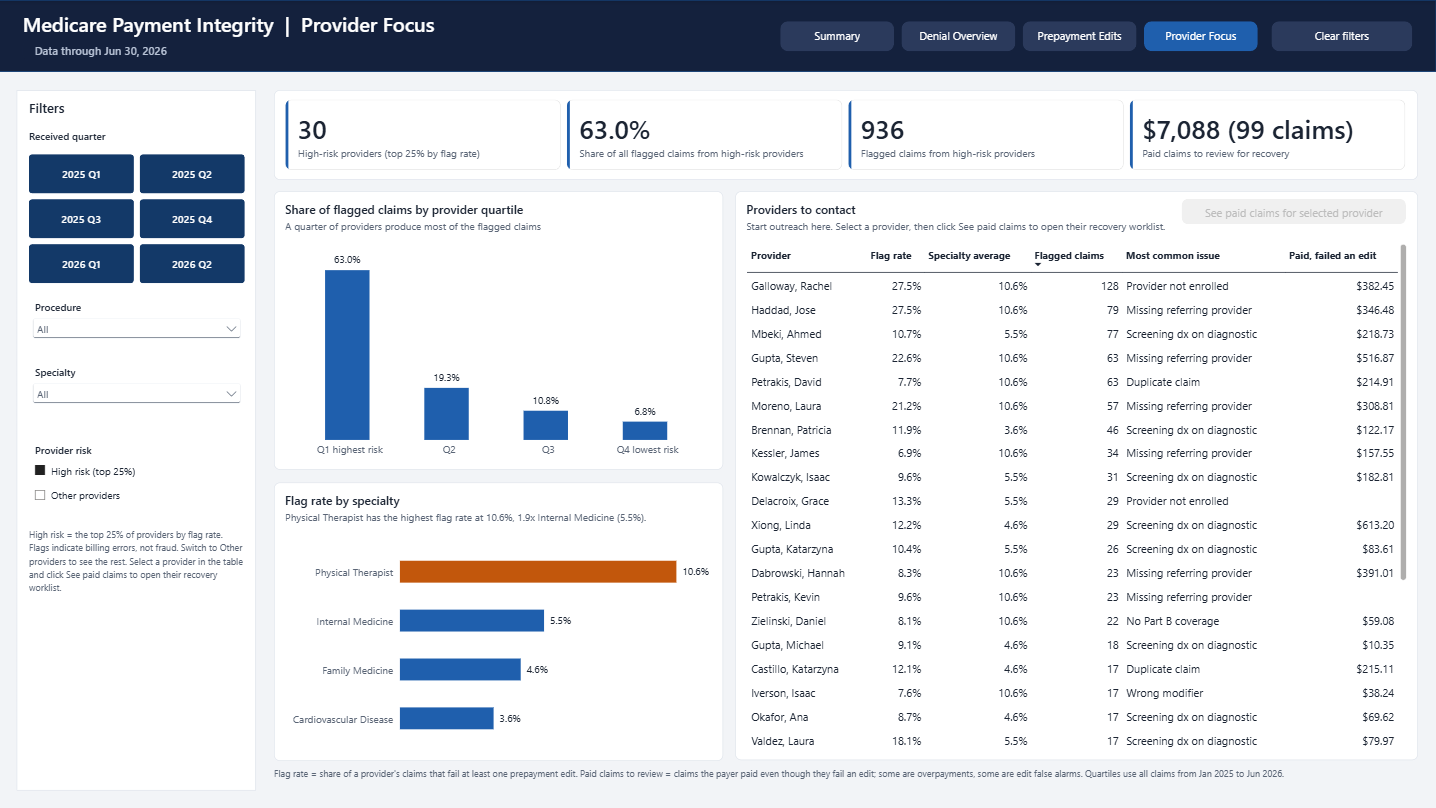

What the dashboard file says about the page in this screenshot:
{"tool":"powerbi","page":{"name":"Provider Focus","canvas":[1920,1080],"ordinal":3},"visuals":[{"type":"shape","box":[0,0,1920,96],"z":1000},{"type":"textbox","box":[32,14,1000,36],"z":2000},{"type":"actionButton","box":[1700,28,188,40],"z":6000},{"type":"shape","box":[24,120,320,936],"z":7000},{"type":"textbox","box":[40,132,288,28],"z":8000},{"type":"advancedSlicerVisual","title":"Received quarter","fields":{"Values":["Date.Year Quarter"]},"box":[40,168,288,216],"z":9000},{"type":"slicer","fields":{"Values":["Procedures.Procedure"]},"box":[40,392,288,80],"z":10000},{"type":"slicer","fields":{"Values":["Providers.Specialty"]},"box":[40,480,288,80],"z":11000},{"type":"slicer","fields":{"Values":["Provider Risk.Risk Group"]},"box":[40,584,288,112],"z":12000},{"type":"textbox","box":[40,704,288,200],"z":13000},{"type":"cardVisual","fields":{"Data":["_Measures.High-Risk Providers","_Measures.High-Risk Flag Share","_Measures.High-Risk Flagged Claims","_Measures.Recovery Label"]},"box":[368,120,1528,120],"z":14000},{"type":"clusteredColumnChart","title":"Share of flagged claims by provider quartile","fields":{"Category":["Provider Risk.Risk Quartile"],"Y":["_Measures.Quartile Flag Share"]},"box":[368,256,600,372],"z":15000},{"type":"clusteredBarChart","title":"Flag rate by specialty","fields":{"Category":["Providers.Specialty"],"Y":["_Measures.Specialty Flag Rate"]},"box":[368,644,600,372],"z":16000},{"type":"tableEx","title":"Providers to contact","fields":{"Values":["Providers.Provider","_Measures.Flag Rate","_Measures.Specialty Flag Rate","_Measures.Provider Flagged Claims","_Measures.Top Failed Edit","_Measures.Paid Amount Failing an Edit"]},"box":[984,256,912,760],"z":17000},{"type":"actionButton","box":[1580,266,300,34],"z":17500},{"type":"textbox","box":[368,1024,1528,40],"z":18000},{"type":"actionButton","box":[1044,28,152,40],"z":901000},{"type":"actionButton","box":[1206,28,152,40],"z":902000},{"type":"actionButton","box":[1368,28,152,40],"z":903000},{"type":"actionButton","box":[1530,28,152,40],"z":904000},{"type":"cardVisual","fields":{"Data":["_Measures.Data Through Text"]},"box":[32,54,1000,28],"z":990000}]}

Visuals, with their boxes in screenshot pixels (x1, y1, x2, y2), scaled from the page's 1920x1080 canvas onto the 1436x808 screenshot:
shape: (left=0, top=0, right=1435, bottom=72)
textbox: (left=24, top=10, right=772, bottom=37)
actionButton: (left=1271, top=21, right=1412, bottom=51)
shape: (left=18, top=90, right=257, bottom=790)
textbox: (left=30, top=99, right=245, bottom=120)
"Received quarter" advancedSlicerVisual: (left=30, top=126, right=245, bottom=287)
slicer - Procedures.Procedure: (left=30, top=293, right=245, bottom=353)
slicer - Providers.Specialty: (left=30, top=359, right=245, bottom=419)
slicer - Provider Risk.Risk Group: (left=30, top=437, right=245, bottom=521)
textbox: (left=30, top=527, right=245, bottom=676)
cardVisual - _Measures.High-Risk Providers x _Measures.High-Risk Flag Share: (left=275, top=90, right=1418, bottom=180)
"Share of flagged claims by provider quartile" clusteredColumnChart: (left=275, top=192, right=724, bottom=470)
"Flag rate by specialty" clusteredBarChart: (left=275, top=482, right=724, bottom=760)
"Providers to contact" tableEx: (left=736, top=192, right=1418, bottom=760)
actionButton: (left=1182, top=199, right=1406, bottom=224)
textbox: (left=275, top=766, right=1418, bottom=796)
actionButton: (left=781, top=21, right=895, bottom=51)
actionButton: (left=902, top=21, right=1016, bottom=51)
actionButton: (left=1023, top=21, right=1137, bottom=51)
actionButton: (left=1144, top=21, right=1258, bottom=51)
cardVisual - _Measures.Data Through Text: (left=24, top=40, right=772, bottom=61)
